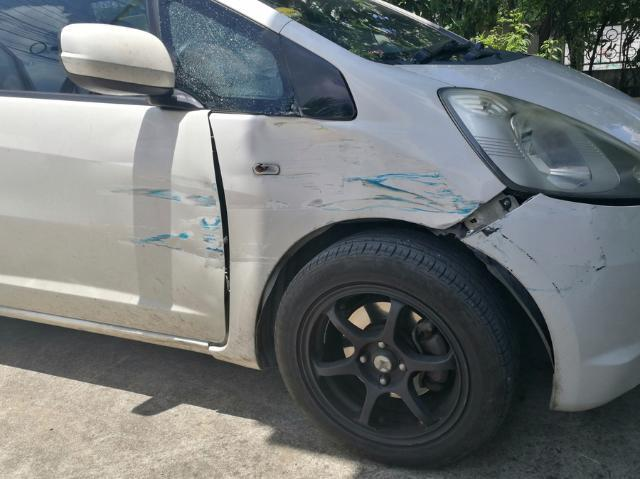Bumper: (466, 191, 640, 429)
Door: (70, 122, 229, 350)
Fender: (200, 114, 501, 372)
